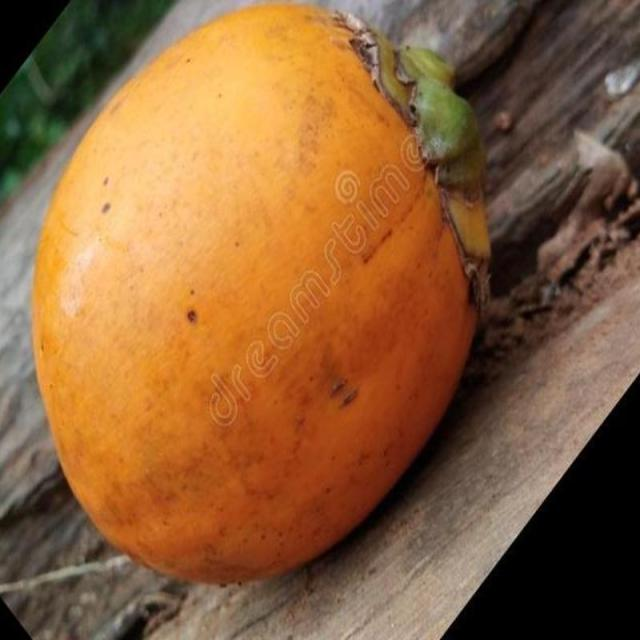good: (26, 4, 490, 590)
